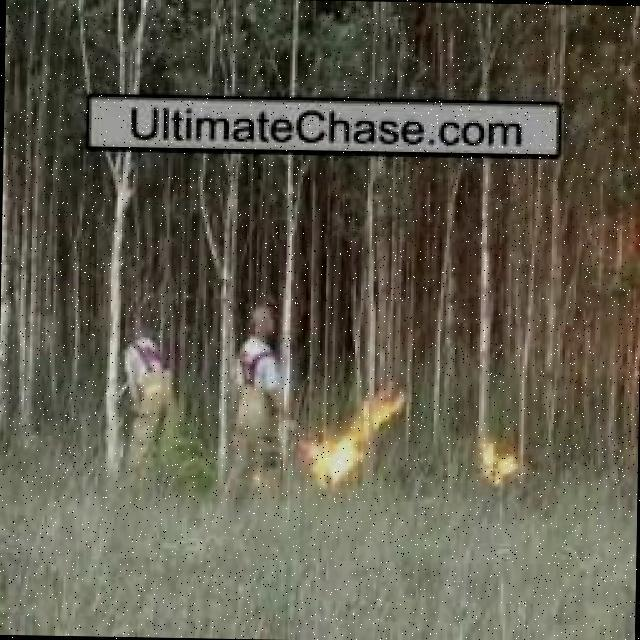Fire: (300, 399, 413, 489), (299, 436, 373, 484), (478, 443, 518, 483)
